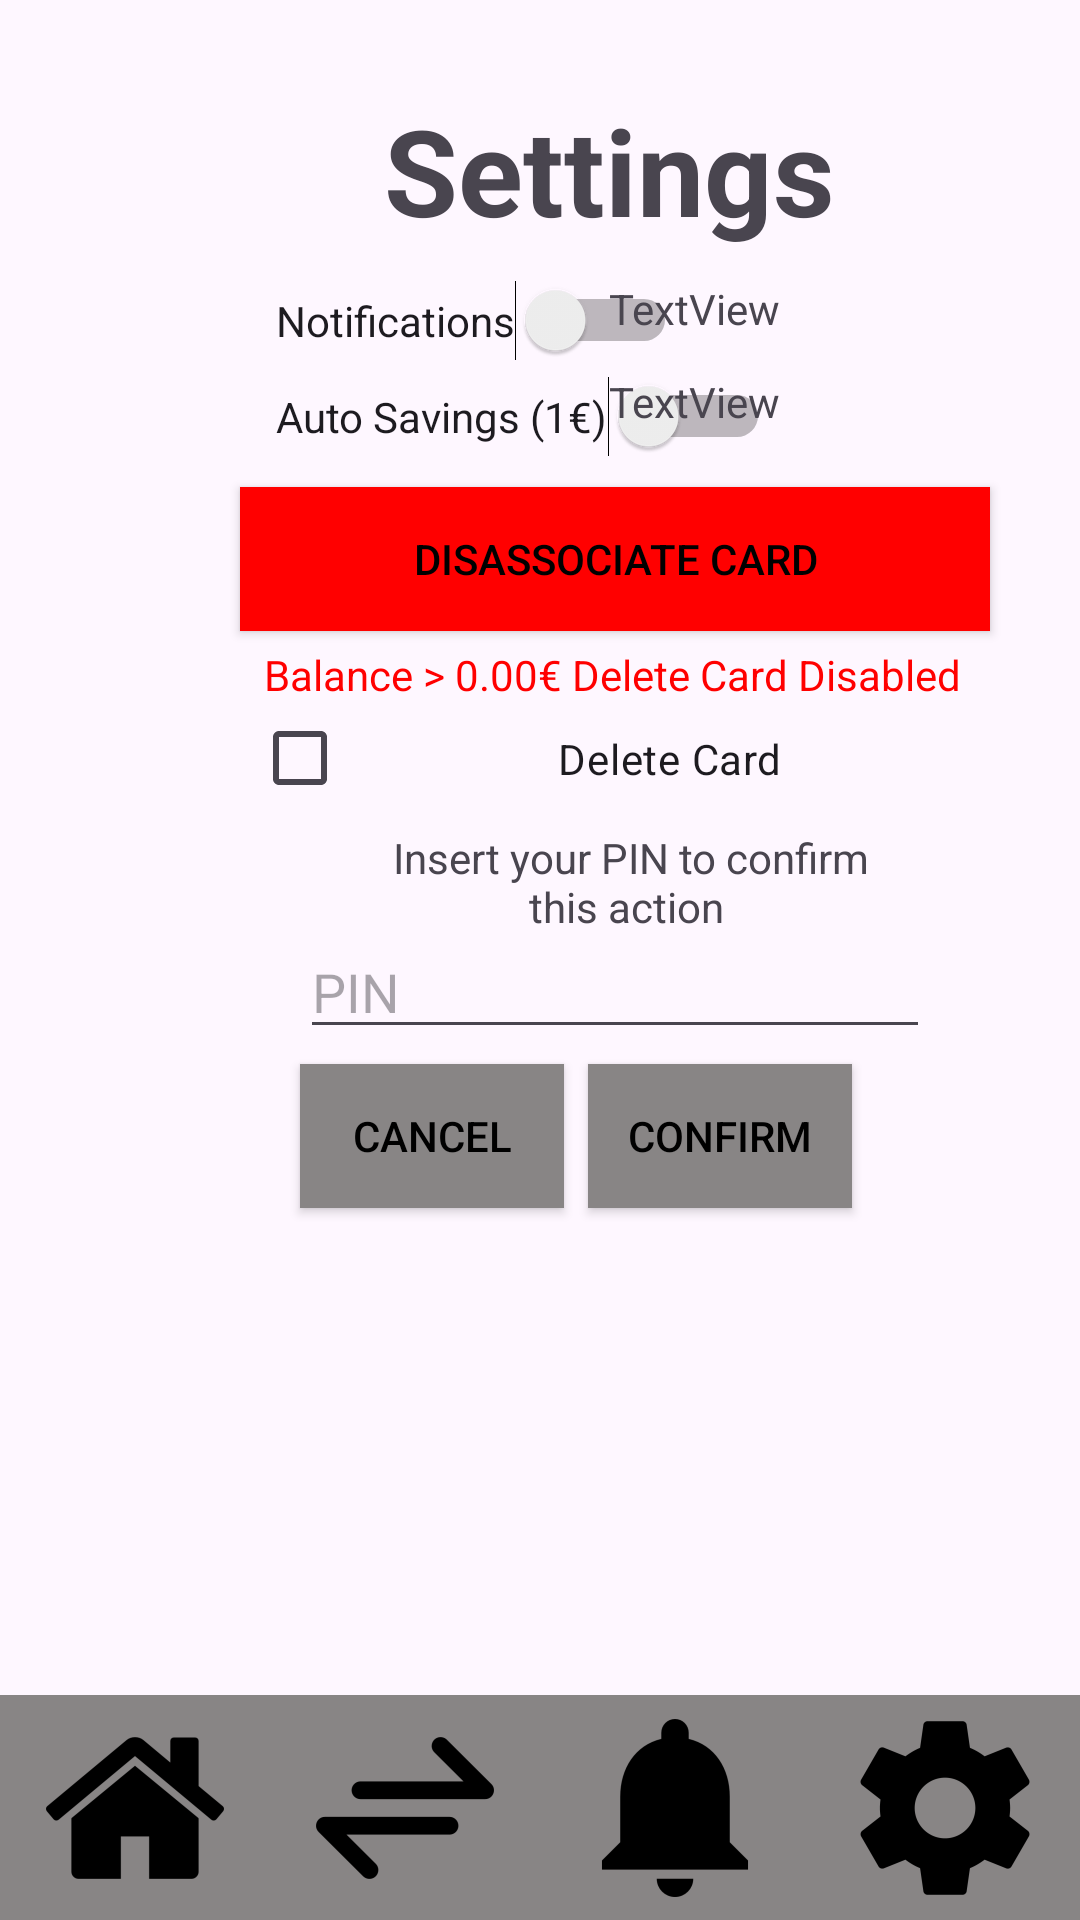

Icons on this 1080px×1920px Android screen, each with its box as (x1, y1, x2, y2):
home: (46, 1737, 224, 1879)
notifications: (602, 1719, 748, 1897)
settings: (860, 1721, 1030, 1895)
transactions: (316, 1737, 494, 1879)
